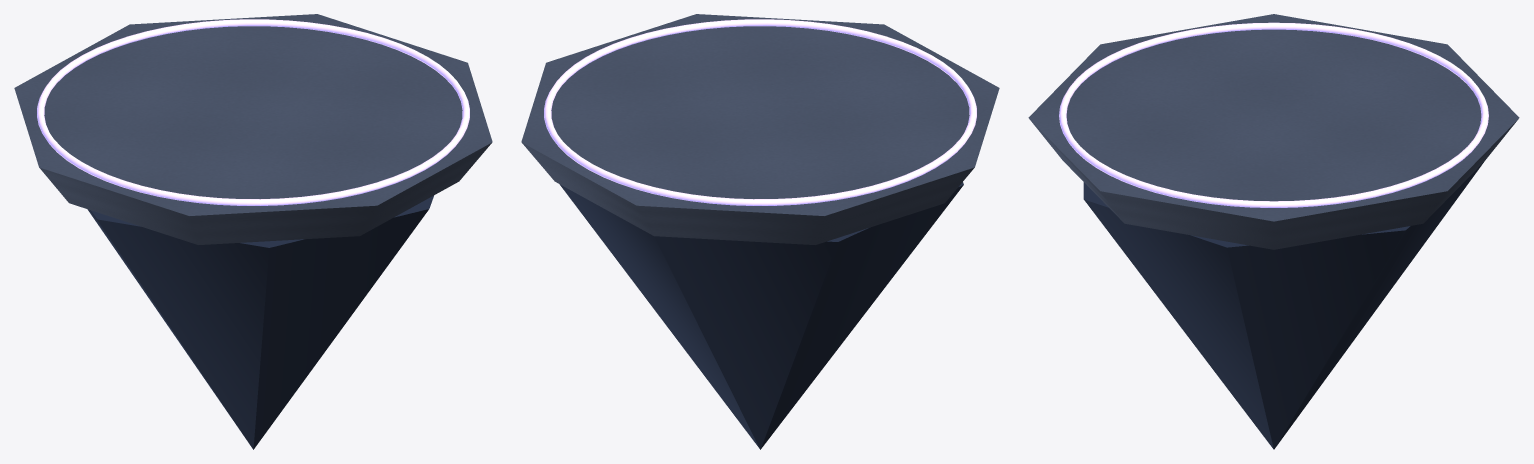
The model's file is platform-decorative.glb.
The picture shows the model from 3 angles, left to right: view 1: azimuth 30°, elevation 25°; view 2: azimuth 150°, elevation 25°; view 3: azimuth 270°, elevation 25°; orthographic projection.
Visible parts, largest first — view 1: platform-decorative_stone, platform-decorative_dark, platform-decorative_rune; view 2: platform-decorative_stone, platform-decorative_dark, platform-decorative_rune; view 3: platform-decorative_stone, platform-decorative_dark, platform-decorative_rune.
Part boxes in pixels (x1=…): platform-decorative_stone: x1=14, y1=14, x2=492, y2=244; platform-decorative_dark: x1=87, y1=195, x2=433, y2=449; platform-decorative_rune: x1=37, y1=19, x2=469, y2=205; platform-decorative_stone: x1=521, y1=14, x2=999, y2=244; platform-decorative_dark: x1=559, y1=182, x2=963, y2=449; platform-decorative_rune: x1=544, y1=19, x2=976, y2=205; platform-decorative_stone: x1=1028, y1=14, x2=1519, y2=249; platform-decorative_dark: x1=1083, y1=161, x2=1484, y2=449; platform-decorative_rune: x1=1059, y1=22, x2=1488, y2=207.
Size of the model in its own units: 2.6 by 1.97 by 2.6.
3 materials, 1 textured.
